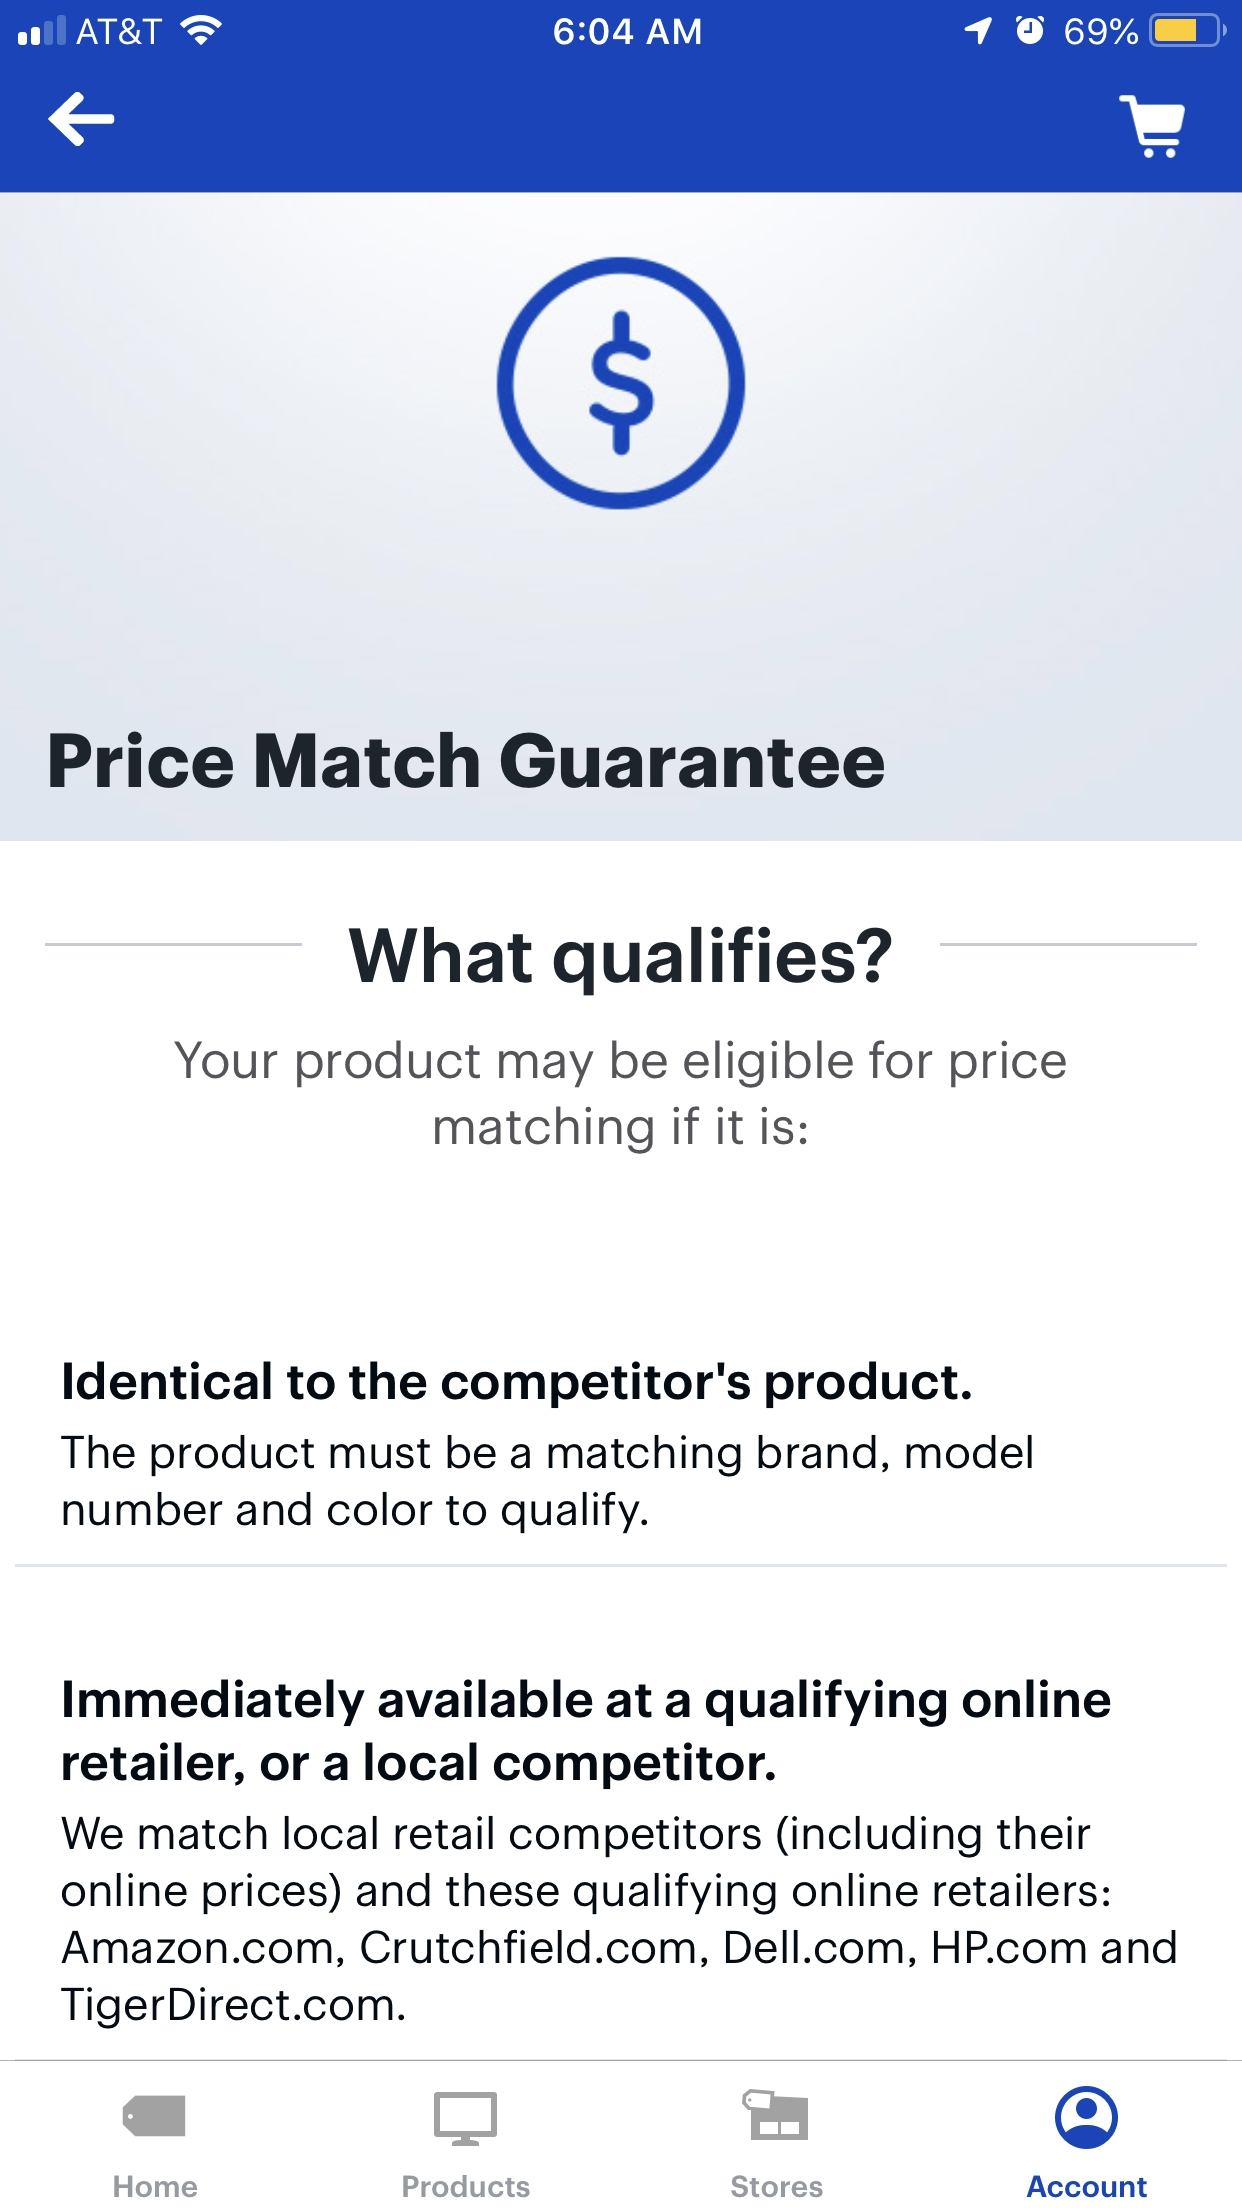Icon: (1118, 94, 1186, 161), (1055, 2087, 1119, 2150), (49, 93, 117, 149), (121, 2094, 187, 2137)
Image: (496, 256, 748, 513), (434, 2093, 497, 2147), (742, 2090, 808, 2141)
Text: (62, 1817, 1177, 2031), (64, 1679, 1112, 1789), (173, 1040, 1068, 1156), (61, 1435, 1033, 1535), (50, 731, 886, 790), (64, 1360, 972, 1409), (347, 925, 892, 996), (403, 2175, 531, 2197), (1027, 2175, 1148, 2197), (731, 2175, 823, 2197), (115, 2175, 199, 2197)
UpperTaskBar: (2, 2, 1242, 49)
